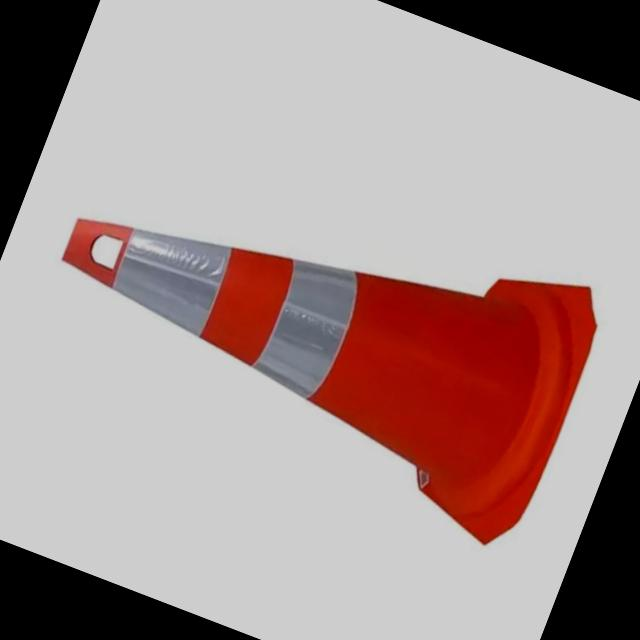cone: (0, 61, 631, 591)
